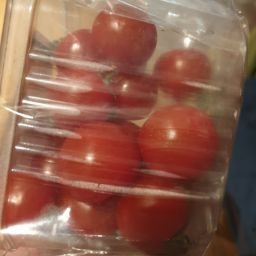Pea tomatoes: (73, 190, 196, 248), (34, 34, 108, 124), (128, 30, 221, 99), (66, 119, 145, 199), (149, 101, 218, 180), (92, 6, 164, 69), (111, 62, 160, 128), (12, 175, 67, 233)
